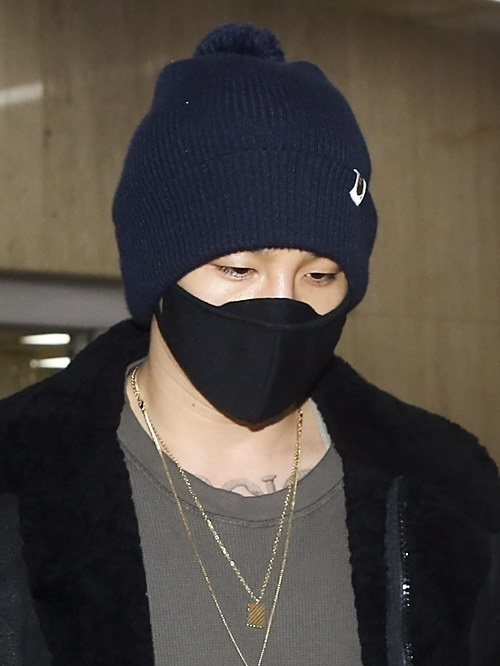face_mask: (179, 195, 345, 427)
